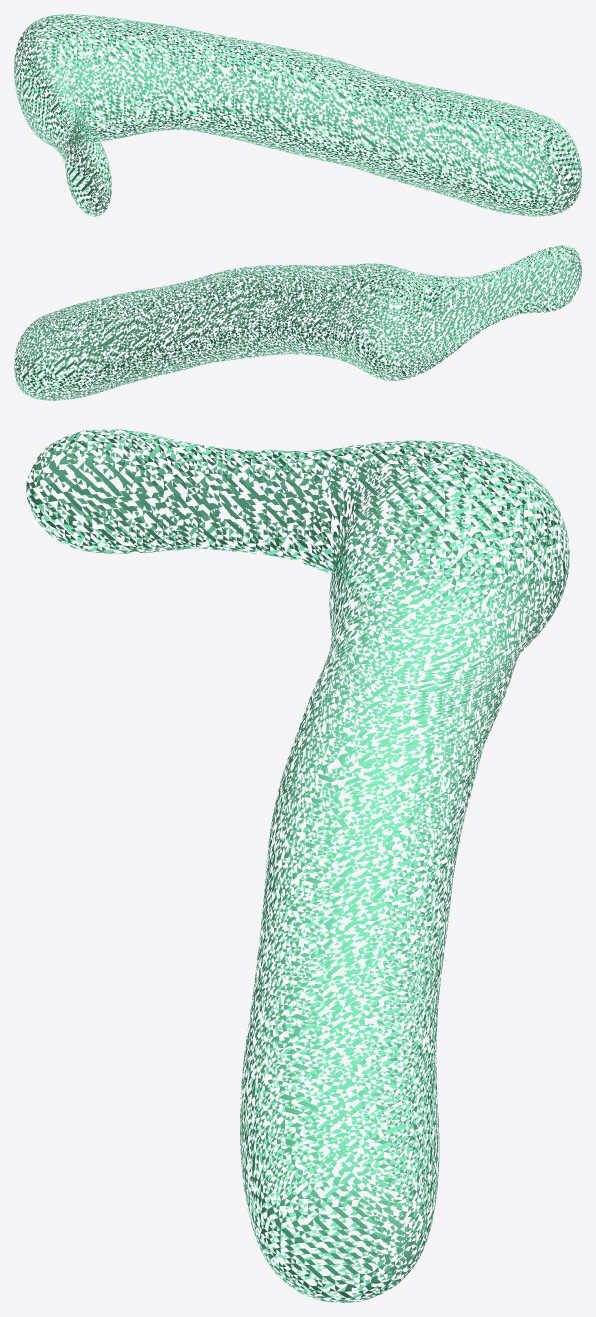
The model's file is healthy.glb.
3 renders of one model, top to bottom at view 1: azimuth 30°, elevation 25°; view 2: azimuth 150°, elevation 25°; view 3: azimuth 270°, elevation 25°, orthographic. The views are drawn at different scales.
Size of the model in its own units: 126 by 58.44 by 61.26.
